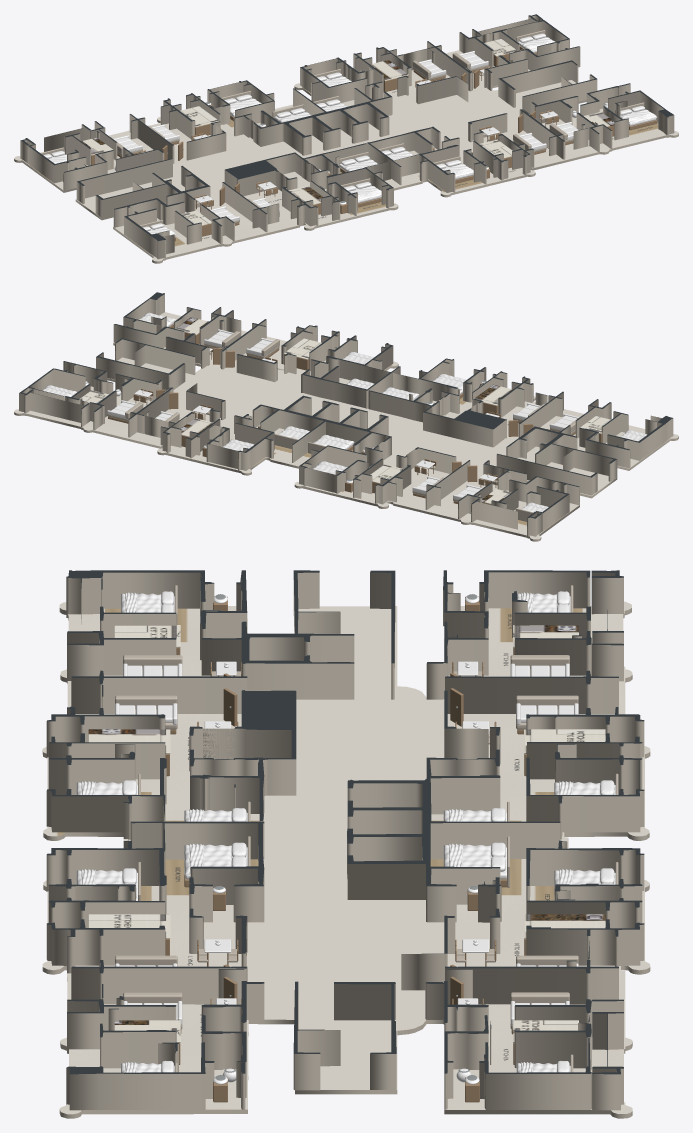
Rendered from carina-vega.glb.
3 renders of one model, top to bottom at view 1: azimuth 30°, elevation 25°; view 2: azimuth 150°, elevation 25°; view 3: azimuth 270°, elevation 25°, orthographic. The views are drawn at different scales.
Visible parts, largest first — view 1: Partition walls, Apartment floor, Stone worktop.006, Stone worktop.005; view 2: Partition walls, Apartment floor, Stone worktop.001, Stone worktop.002; view 3: Partition walls, Apartment floor, Stone worktop.001, Stone worktop.005, Stone worktop.002, Stone worktop.006, Stone worktop, Stone worktop.007, Draped bed linen.008.
Boxes of the visible parts, x1,y1,x2,y2 form: Partition walls: (20, 14, 674, 259); Apartment floor: (14, 50, 678, 263); Stone worktop.006: (180, 106, 219, 127); Stone worktop.005: (370, 60, 408, 80); Partition walls: (19, 292, 673, 536); Apartment floor: (14, 311, 678, 541); Stone worktop.001: (473, 384, 512, 405); Stone worktop.002: (283, 338, 321, 359); Partition walls: (46, 570, 644, 1110); Apartment floor: (42, 601, 650, 1118); Stone worktop.001: (88, 729, 170, 753); Stone worktop.005: (524, 914, 605, 938); Stone worktop.002: (88, 914, 170, 938); Stone worktop.006: (524, 729, 605, 753); Stone worktop: (114, 625, 180, 647); Stone worktop.007: (513, 625, 578, 647); Draped bed linen.008: (184, 844, 231, 875).
Size of the model in its own units: 39 by 1.44 by 19.54.
Materials: 12 (2 with a texture image).
